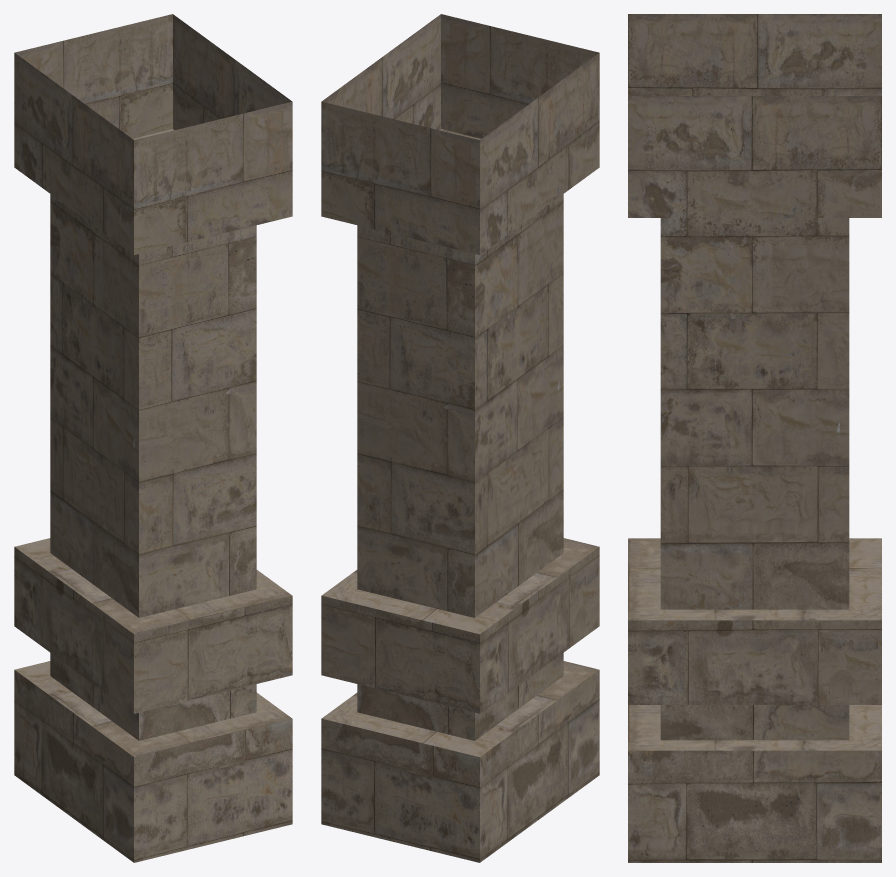
Rendered from pillar.glb.
The picture shows the model from 3 angles, left to right: view 1: azimuth 30°, elevation 25°; view 2: azimuth 150°, elevation 25°; view 3: azimuth 270°, elevation 25°; orthographic projection. The views are drawn at different scales.
Parts seen in each view (by area): view 1: pillar; view 2: pillar; view 3: pillar.
Part boxes in pixels (x1,y1,x2,y2): pillar: (14, 14, 292, 862); pillar: (321, 14, 599, 862); pillar: (628, 14, 881, 862).
Bounding box in the file's own units: 1.49 × 6.5 × 1.95.
1 material, 1 textured.
